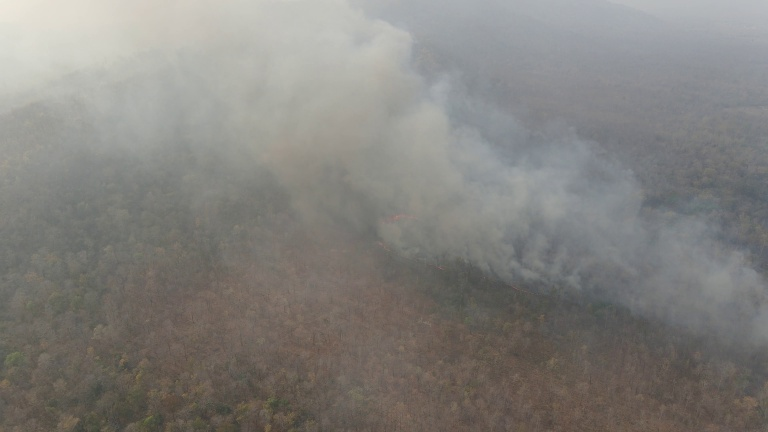fire: (504, 275, 537, 292), (389, 209, 411, 224), (375, 238, 395, 253), (426, 259, 447, 271)
smoke: (128, 8, 550, 277), (486, 128, 766, 351)
